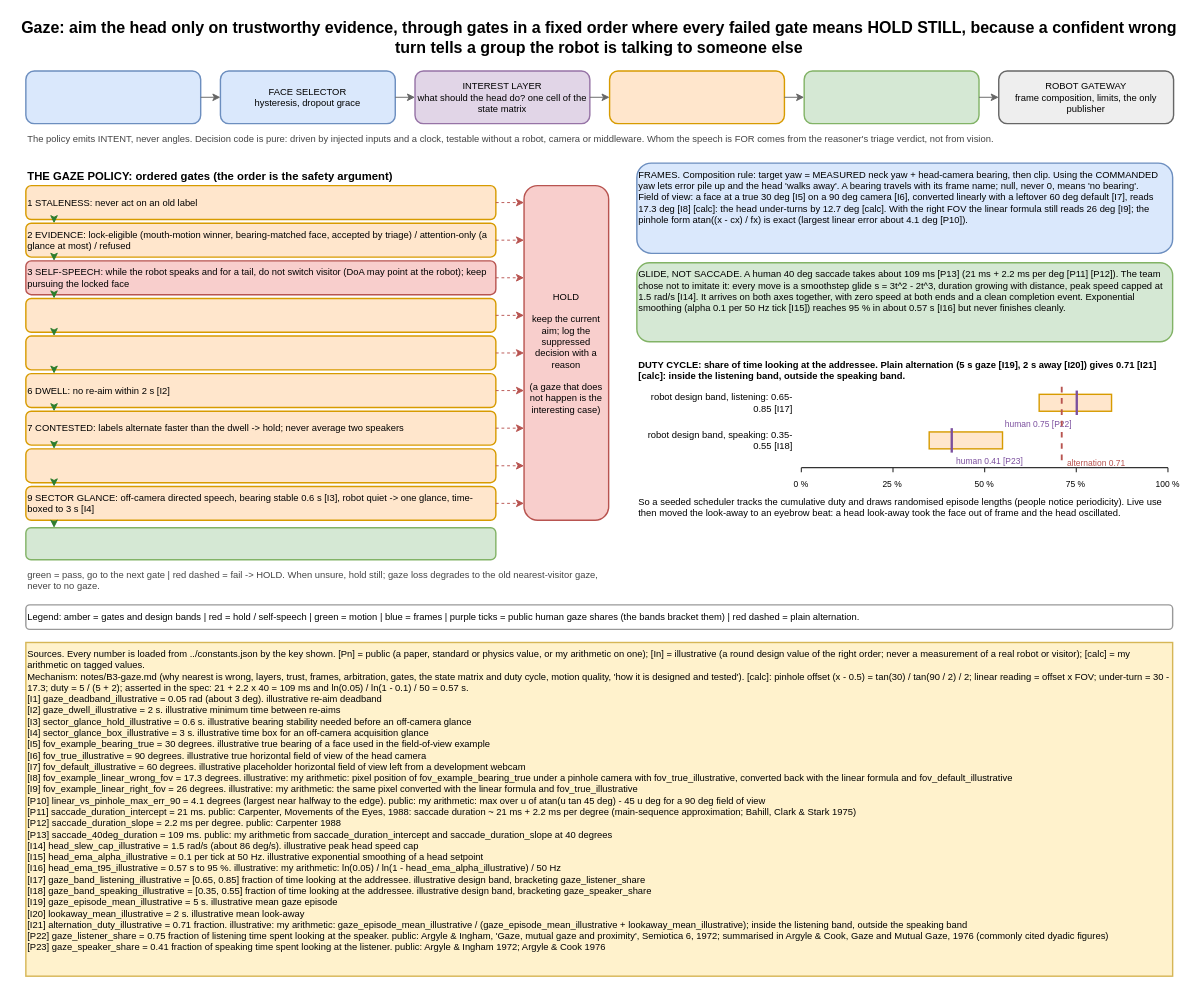
This 1202x993 diagram has some shape labels left out. Here are the shapes that lost their labels. From the top down, the centre of each, then its label:
At point 113,97: "ATTRIBUTION who, and their bearing in ITS camera frame".
At point 696,97: "GAZE POLICY may I aim now? the ordered gates below".
At point 891,97: "HEAD CONTROLLER eased glide, nod overlay".
At point 260,315: "4 SLEW HOLD: bearings taken during a head pan are the least trustworthy".
At point 260,352: "5 DEADBAND: ignore changes under 0.05 rad [I1] (about 3 deg)".
At point 260,465: "8 PURSUIT: follow the same locked face frame by frame; disengage on face loss".
At point 260,543: "AIM: hand an eased glide to the head controller".
